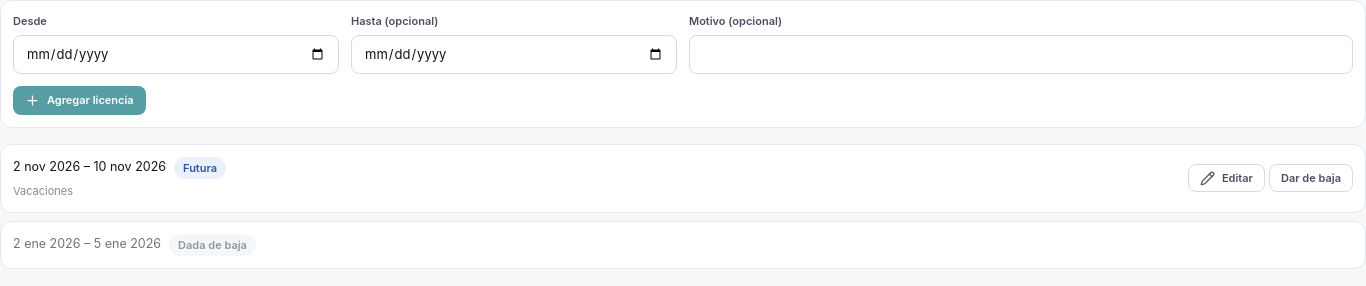
Test case: EmployeeLeavesTab: editar licencia (AJ2-08) › cancelar la edición vuelve al formulario de alta vacío
The image size is (1366, 286).
Click the button with aria-label "editar la licencia". click: point(1226, 178)
box: [1188,164,1265,192]
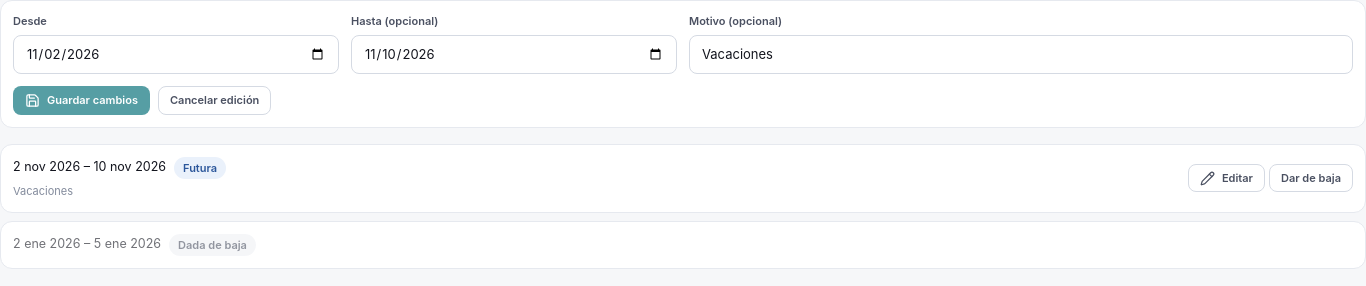
Click the button "Cancelar edición". click: point(215, 100)
box: [158,86,271,114]
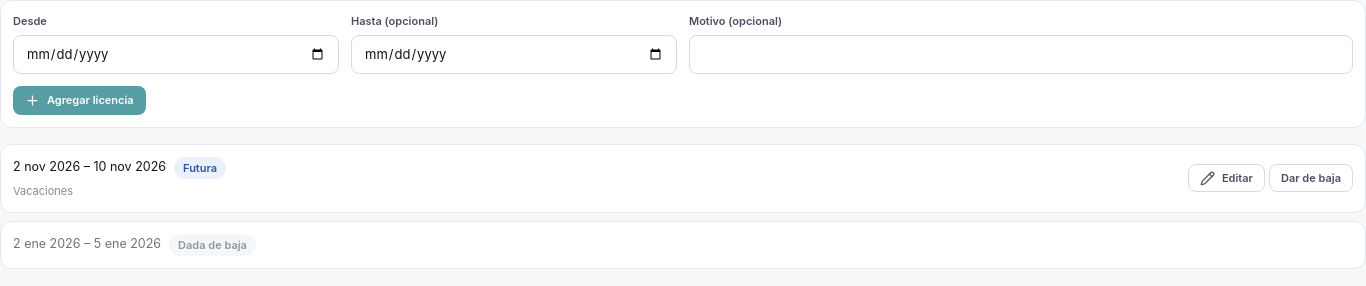
Expected: the button "Agregar licencia" is shown, [13,86,146,114]
Expected: the date field labelled "Desde" is empty, [13,34,339,74]
